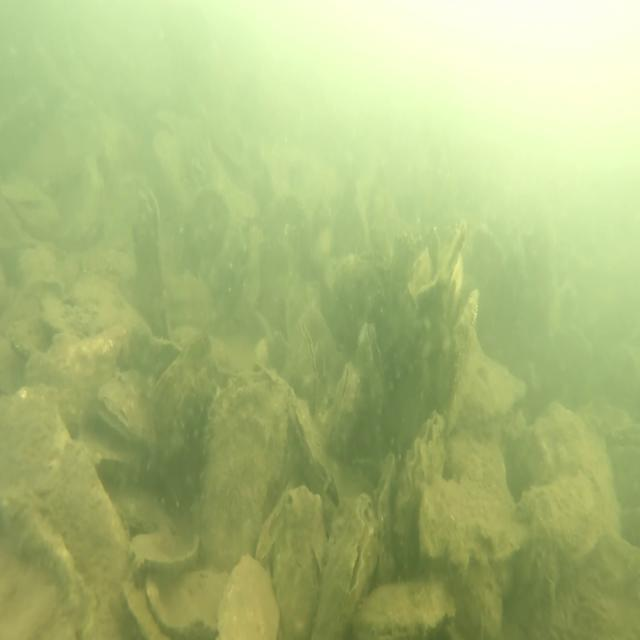Oyster-Closed: (316, 489, 380, 640), (149, 327, 218, 462), (392, 411, 445, 542), (282, 393, 340, 505), (358, 575, 455, 640), (372, 449, 397, 578), (294, 320, 320, 407), (332, 362, 359, 428)
Oyster-Indeterminate: (0, 381, 132, 640), (194, 370, 297, 572), (518, 400, 620, 550), (541, 527, 640, 640), (259, 486, 328, 640), (417, 470, 518, 573), (519, 463, 604, 576), (141, 571, 231, 640), (214, 559, 279, 640), (127, 528, 201, 574)
Oyster-Open: (127, 186, 172, 340), (441, 247, 481, 420), (464, 352, 526, 439), (97, 366, 156, 446), (355, 319, 384, 413)
